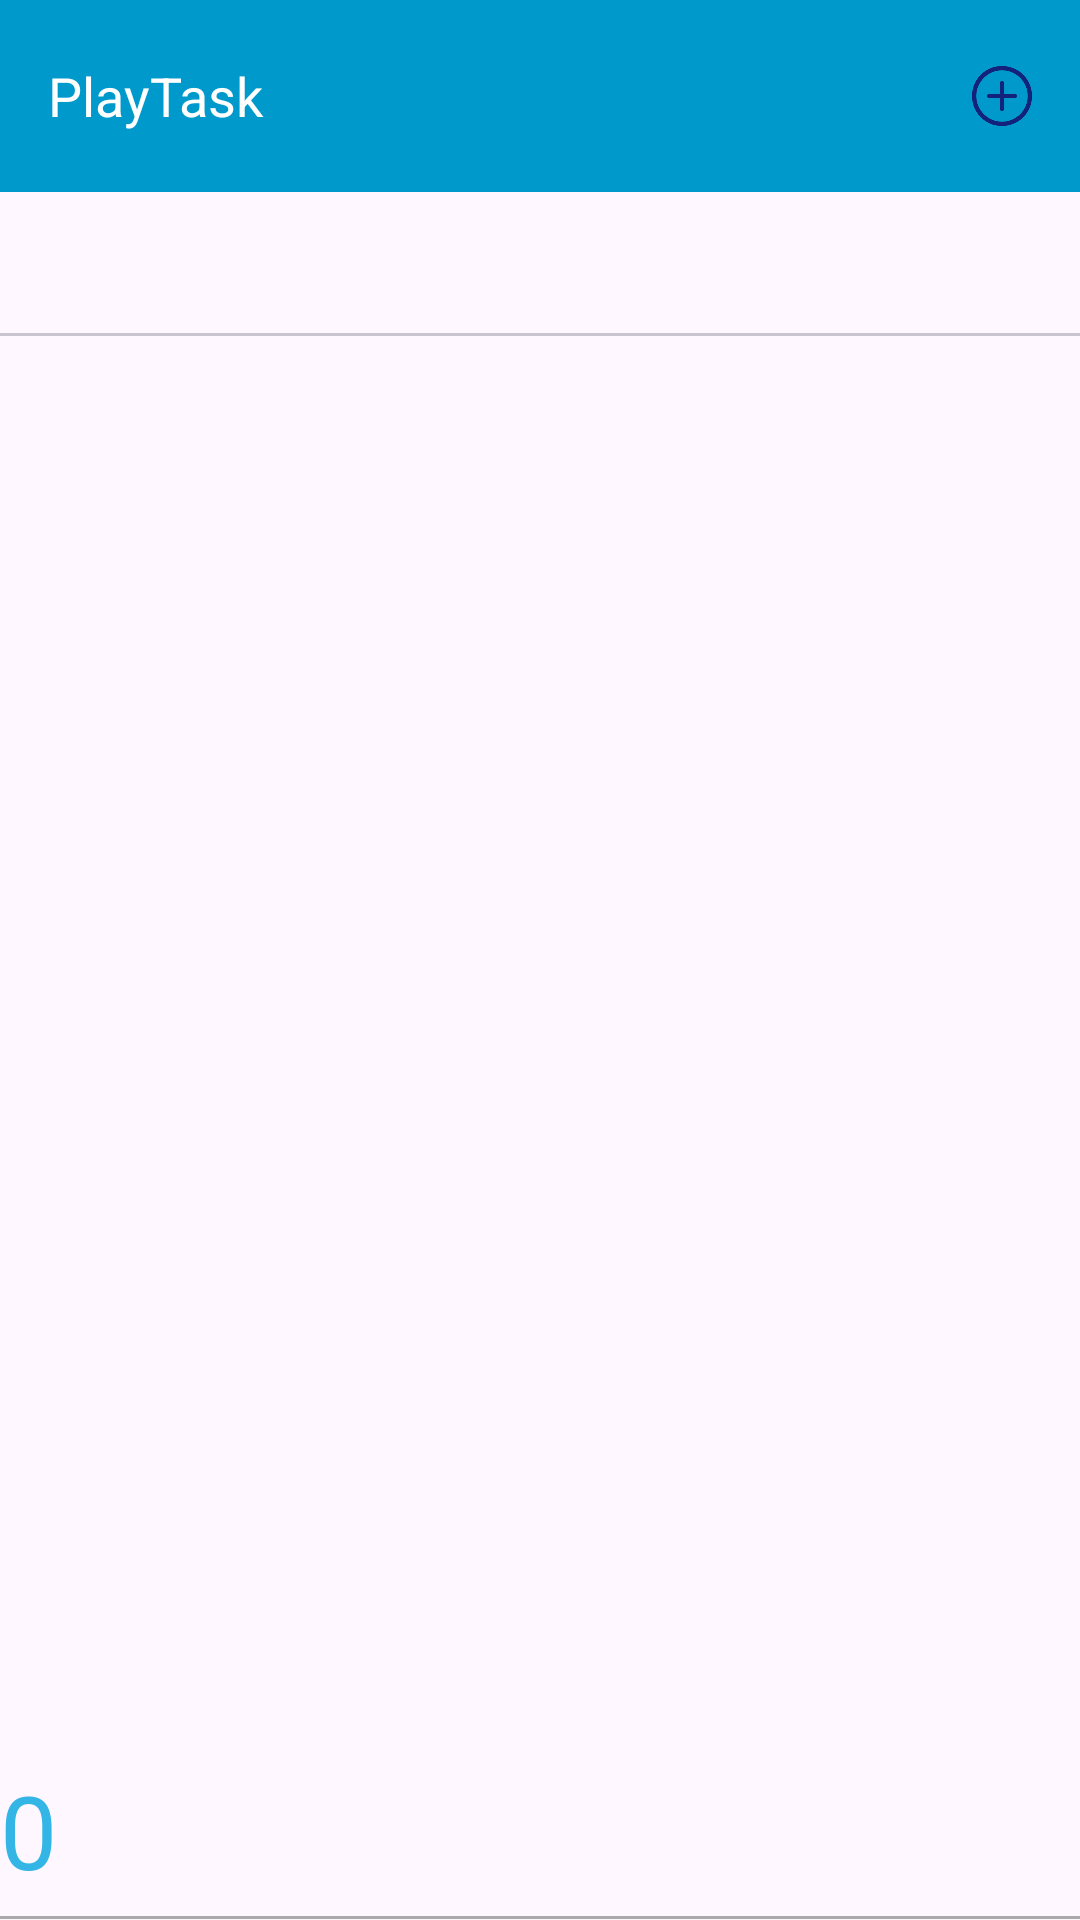

Icons on this 1080×1920 Android screen, each with the point to tap as (x,y):
add: (1002,96)
